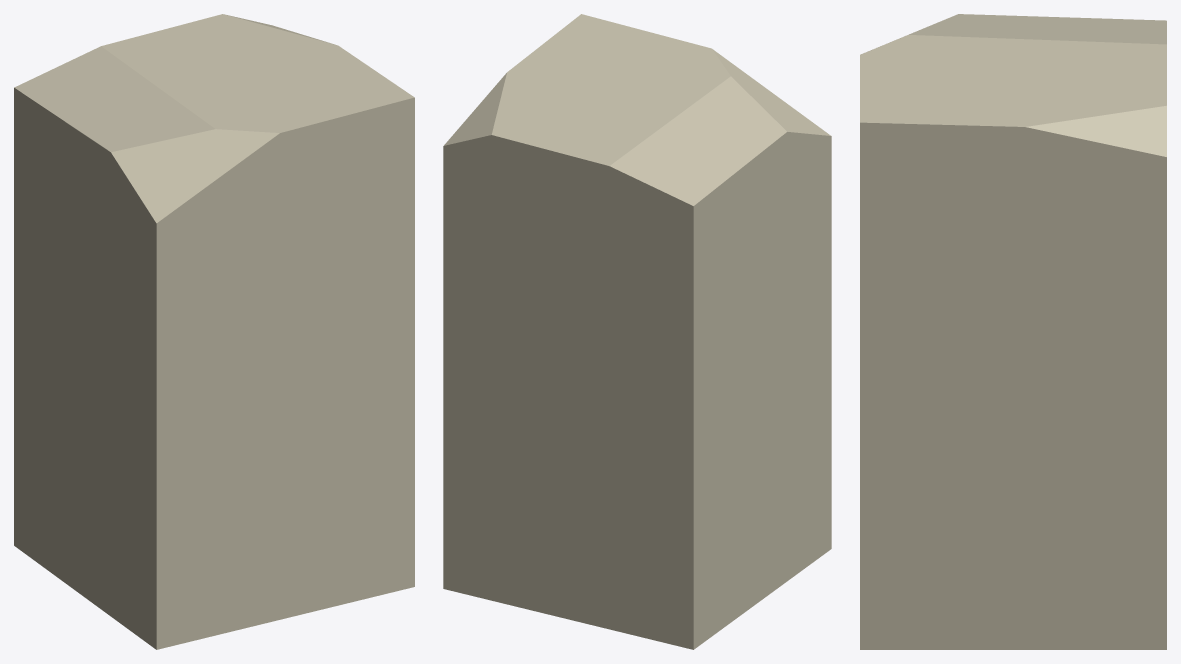
File: Rock_Square_m_09.fbx
3 views of the same model, side by side, from view 1: azimuth 30°, elevation 25°; view 2: azimuth 150°, elevation 25°; view 3: azimuth 270°, elevation 25° (orthographic). The views are drawn at different scales.
Visible parts, largest first — view 1: Rock_Square_m_09; view 2: Rock_Square_m_09; view 3: Rock_Square_m_09.
Boxes of the visible parts, x1,y1,x2,y2 form: Rock_Square_m_09: [14, 14, 414, 649]; Rock_Square_m_09: [443, 14, 831, 649]; Rock_Square_m_09: [860, 14, 1166, 649].
Size of the model in its own units: 39.52 by 71.57 by 37.73.
